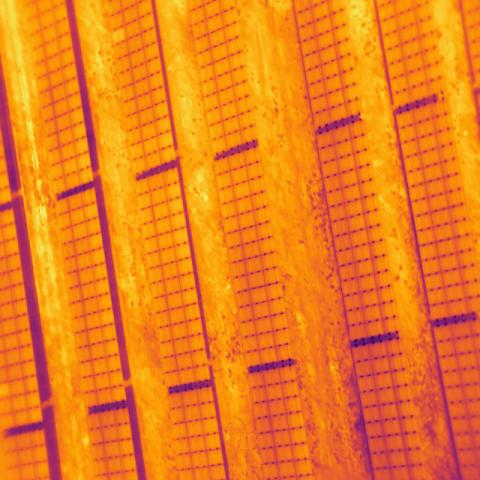fault: (111, 26, 127, 45)
